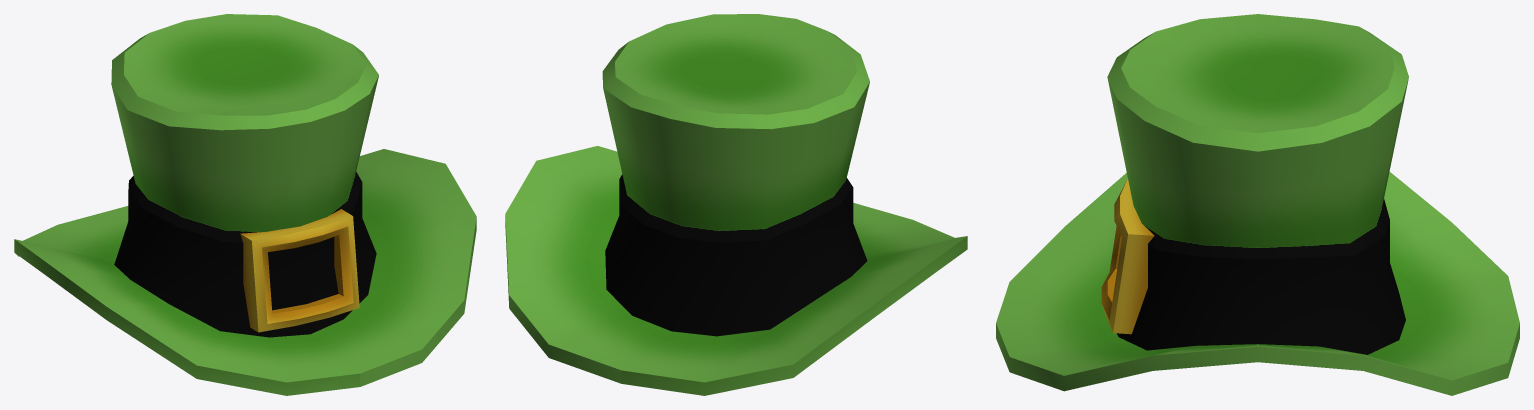
The model's file is m_LeprechaunHat01.obj.
The picture shows the model from 3 angles, left to right: view 1: azimuth 30°, elevation 25°; view 2: azimuth 150°, elevation 25°; view 3: azimuth 270°, elevation 25°; orthographic projection. The views are drawn at different scales.
Visible parts, largest first — view 1: m_LeprechaunHat01_mi_LeprechaunHat; view 2: m_LeprechaunHat01_mi_LeprechaunHat; view 3: m_LeprechaunHat01_mi_LeprechaunHat.
Part boxes in pixels (box(x1,y1,x2,y2)): m_LeprechaunHat01_mi_LeprechaunHat: box(14, 14, 476, 395); m_LeprechaunHat01_mi_LeprechaunHat: box(505, 14, 967, 395); m_LeprechaunHat01_mi_LeprechaunHat: box(996, 14, 1519, 395).
Size of the model in its own units: 0.7769 by 0.4412 by 0.7726.
Materials: 1 (1 with a texture image).
